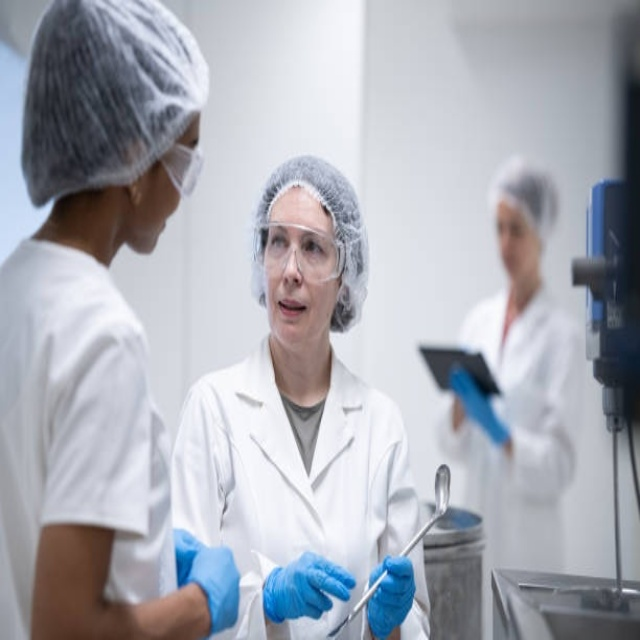Gafas: (252, 220, 344, 281), (162, 140, 208, 195)
Guantes: (260, 536, 355, 621), (170, 516, 243, 626), (366, 549, 418, 631)
Sin_mascara: (136, 201, 179, 253), (268, 293, 312, 333)
